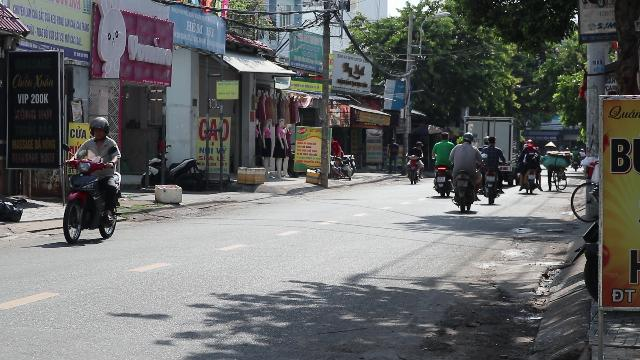helmet: (89, 116, 109, 138)
motorcyclist: (58, 116, 124, 246)
